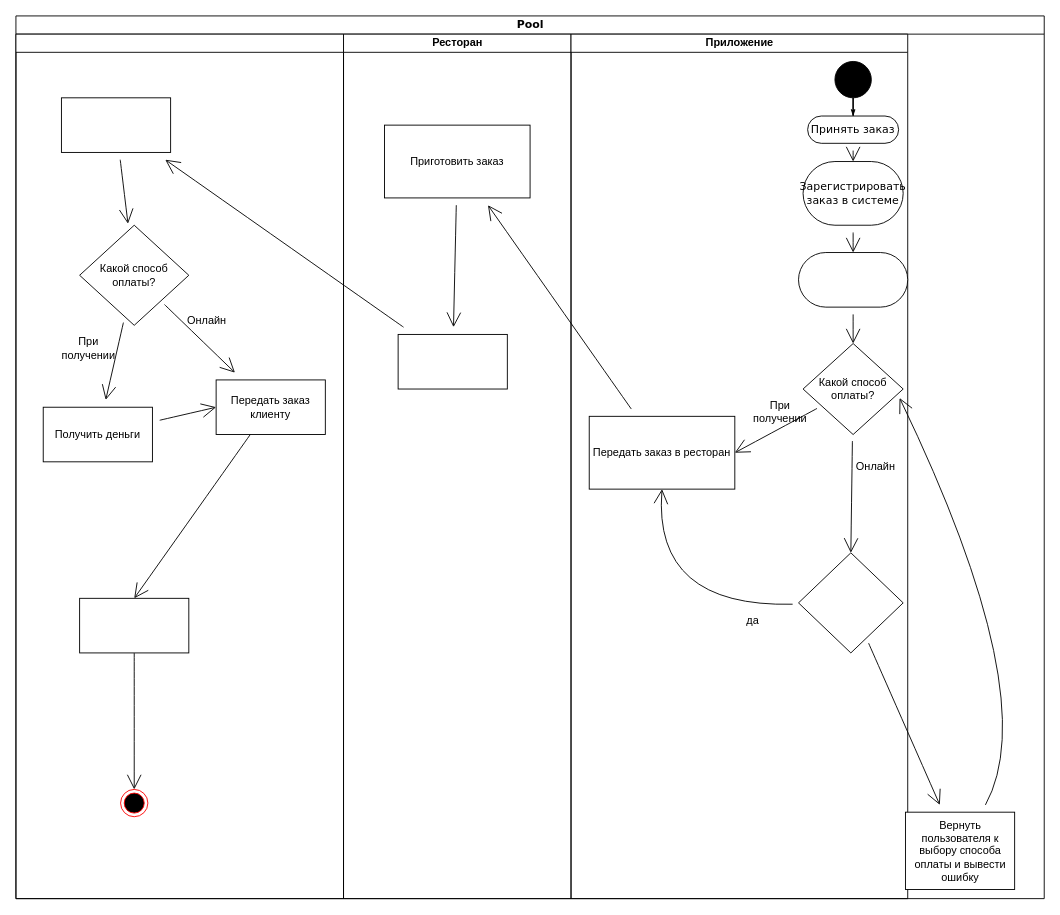
Image size: 1060x915. Some labels were removed from this diagram. Here are the shapes that lost their labels. From the top down, the box of each, then its label:
(61, 97, 171, 152): Доставить заказ
(798, 252, 908, 307): Предложить пользователю способ оплаты и получить ответ
(397, 334, 507, 389): Передать заказ курьеру
(15, 33, 344, 899): Курьер
(798, 552, 903, 653): Оплата получена?
(79, 597, 189, 653): Закрыть заказ
